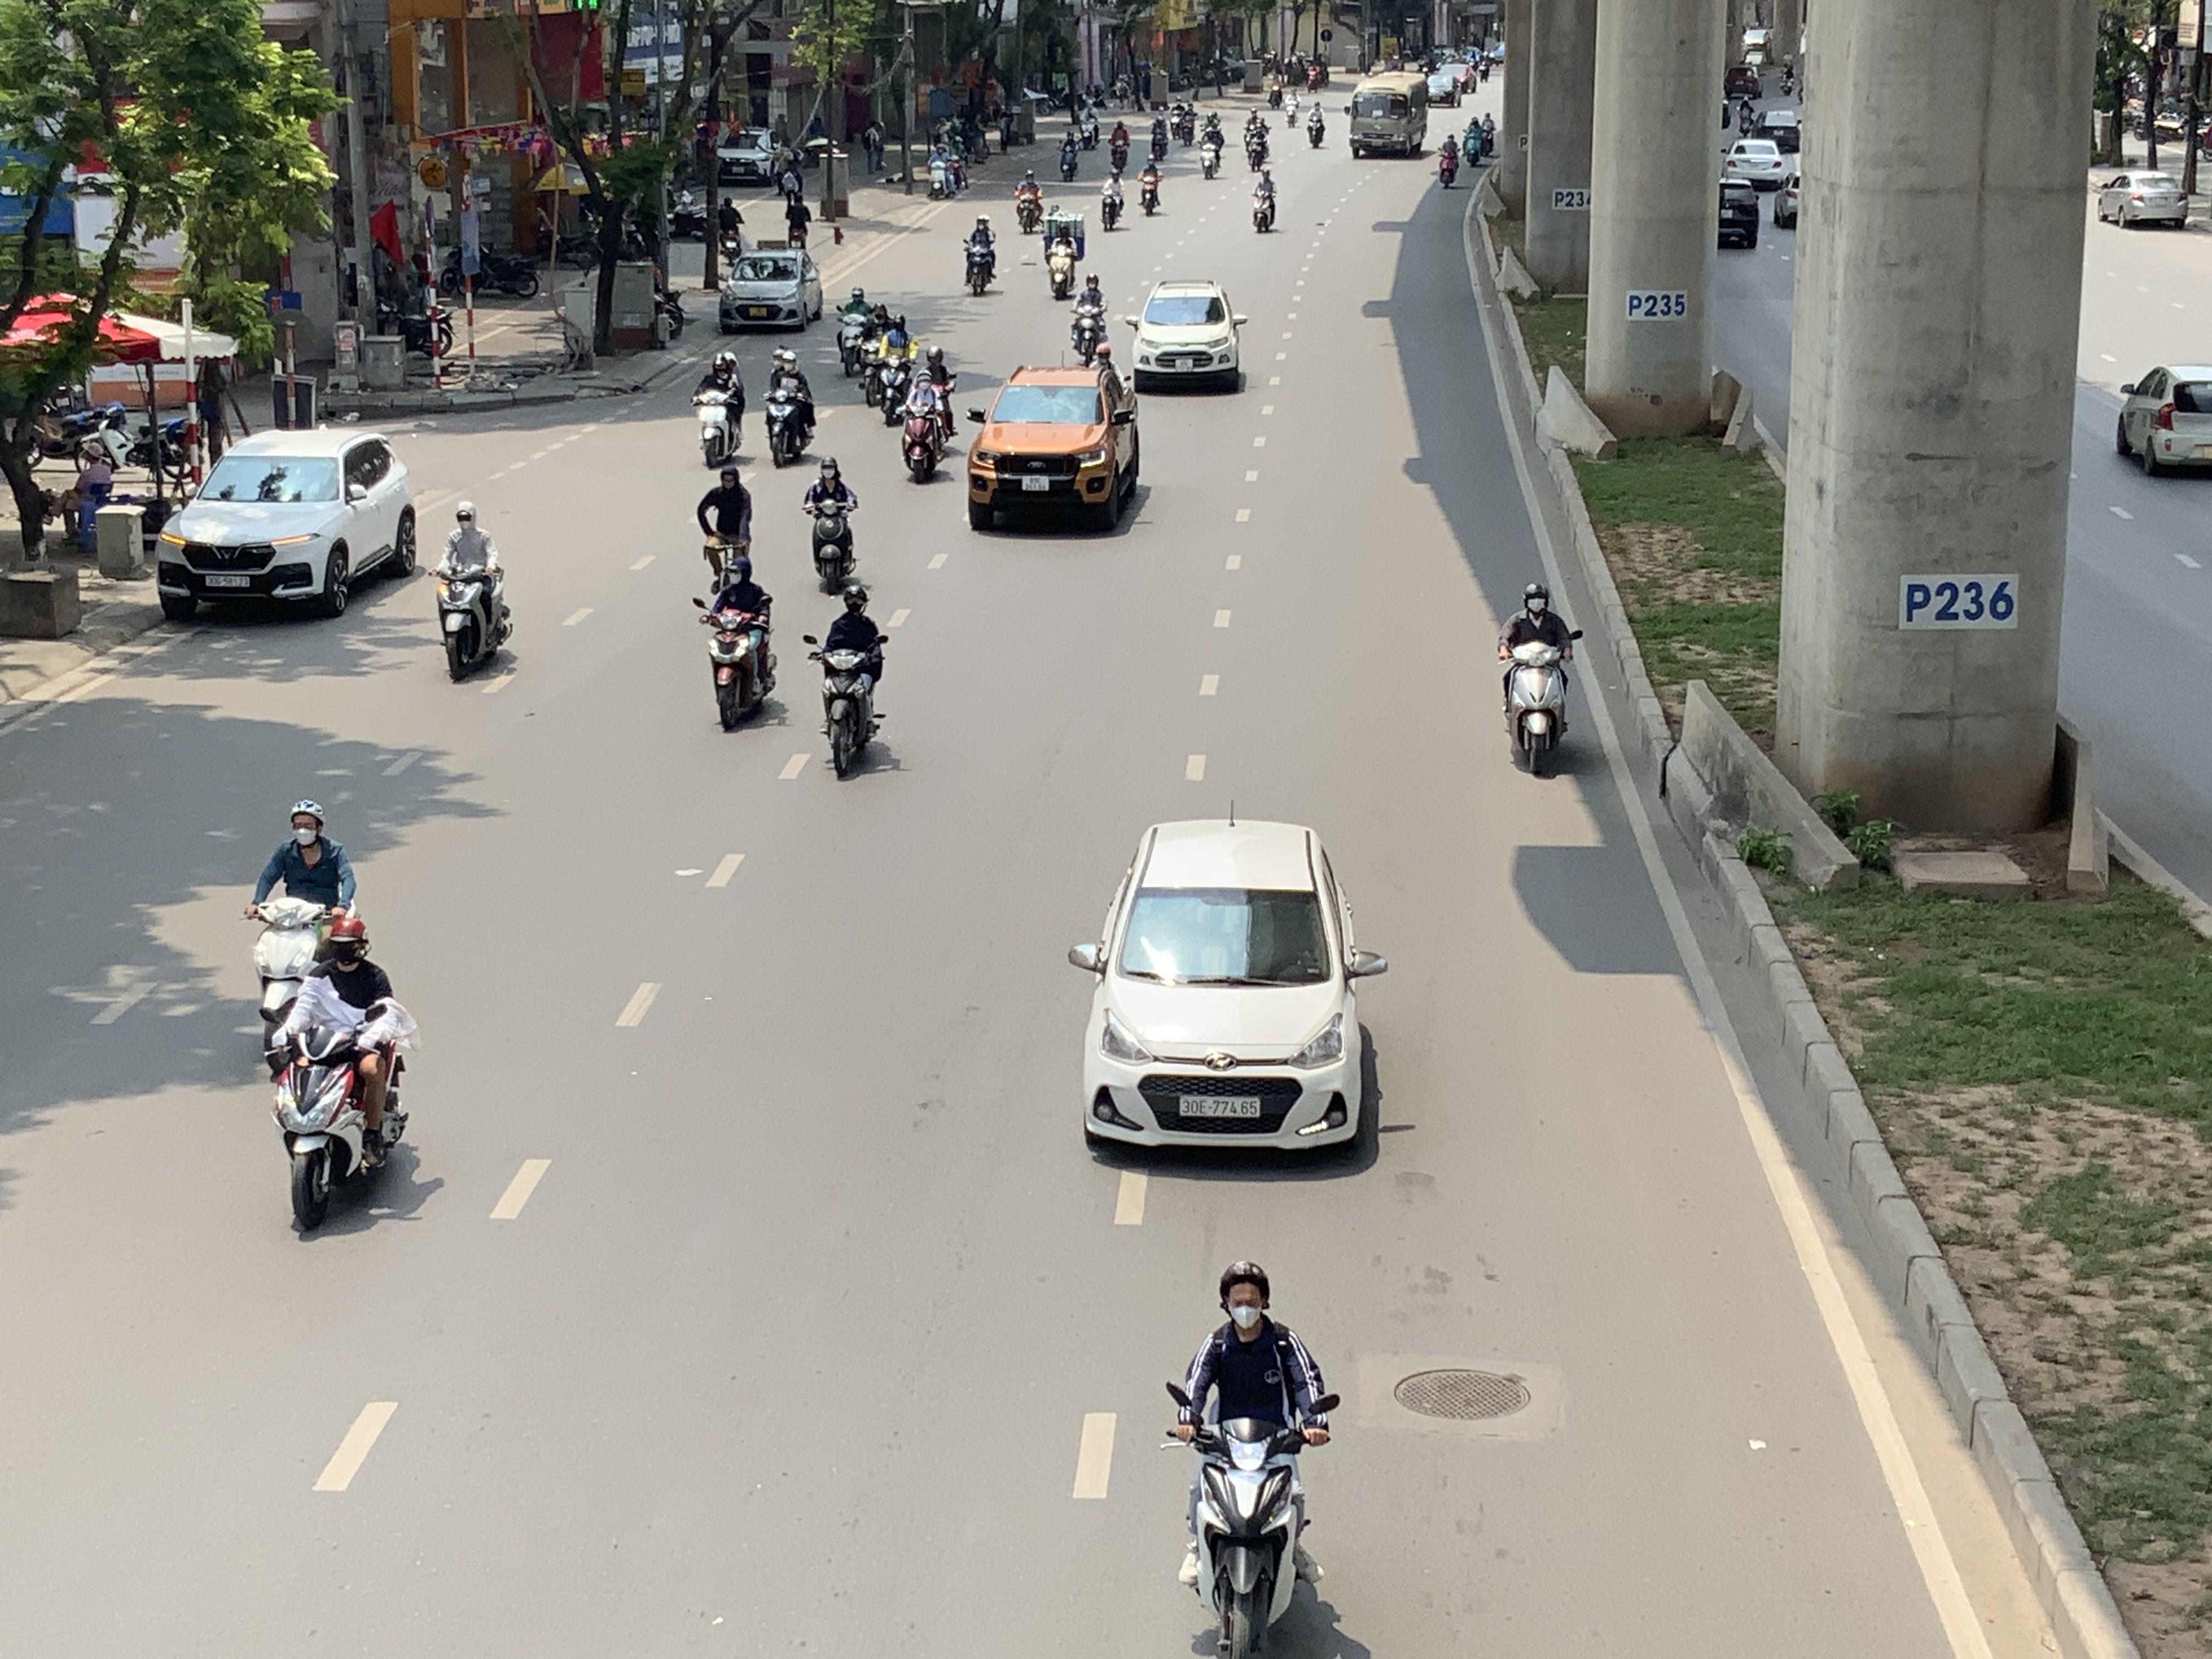BSD: (1179, 1096, 1261, 1117), (206, 575, 249, 587)
BSV: (1021, 476, 1050, 493)
bus: (1346, 70, 1430, 159)
car: (1068, 817, 1390, 1164), (155, 427, 418, 622), (967, 362, 1143, 535), (1129, 281, 1247, 394), (2114, 361, 2212, 477), (716, 246, 824, 333), (2097, 169, 2189, 230)
motorbike: (1163, 1260, 1336, 1659), (268, 911, 415, 1241), (247, 798, 359, 1047), (1498, 580, 1581, 777), (810, 584, 888, 781), (434, 502, 514, 683), (700, 552, 779, 732), (803, 457, 860, 596), (697, 464, 754, 589), (899, 359, 956, 484), (763, 347, 817, 467), (693, 350, 747, 469), (867, 314, 916, 422), (833, 282, 880, 378), (1068, 274, 1111, 368), (1043, 218, 1083, 300), (961, 214, 998, 296), (1014, 166, 1045, 234), (1251, 164, 1280, 234), (1097, 164, 1127, 230), (1240, 108, 1270, 171), (1136, 155, 1163, 218), (1198, 113, 1224, 179), (1435, 131, 1463, 188), (1055, 129, 1082, 181), (1305, 99, 1327, 150)
